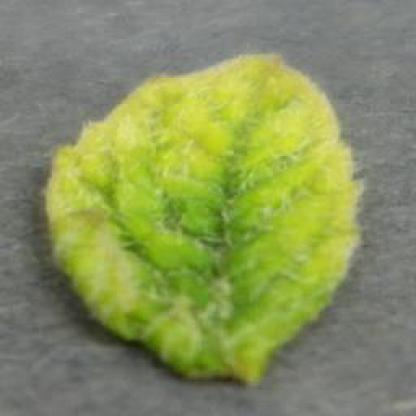bad leaf: (58, 58, 365, 369)
